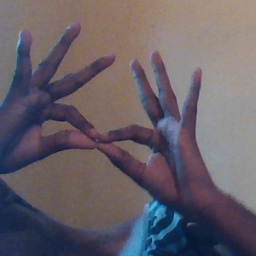B: (22, 76, 162, 186)
